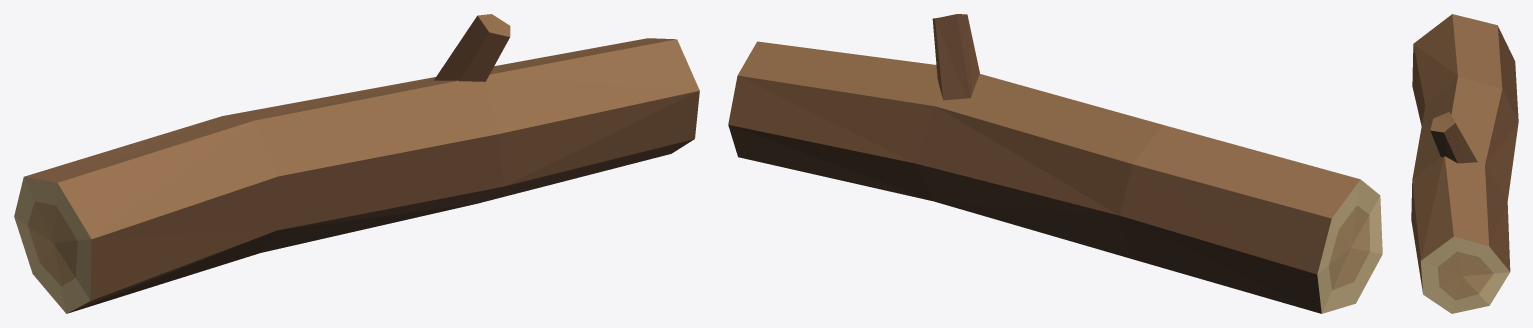
File: SM_Log_A.fbx
3 views of the same model, side by side, from view 1: azimuth 30°, elevation 25°; view 2: azimuth 150°, elevation 25°; view 3: azimuth 270°, elevation 25° (orthographic). The views are drawn at different scales.
Visible parts, largest first — view 1: SM_Log_A; view 2: SM_Log_A; view 3: SM_Log_A.
Part boxes in pixels (<box>): SM_Log_A: <box>14,14,699,313</box>; SM_Log_A: <box>728,14,1382,313</box>; SM_Log_A: <box>1411,14,1518,313</box>.
Size of the model in its own units: 2.44 by 0.7417 by 0.5097.
